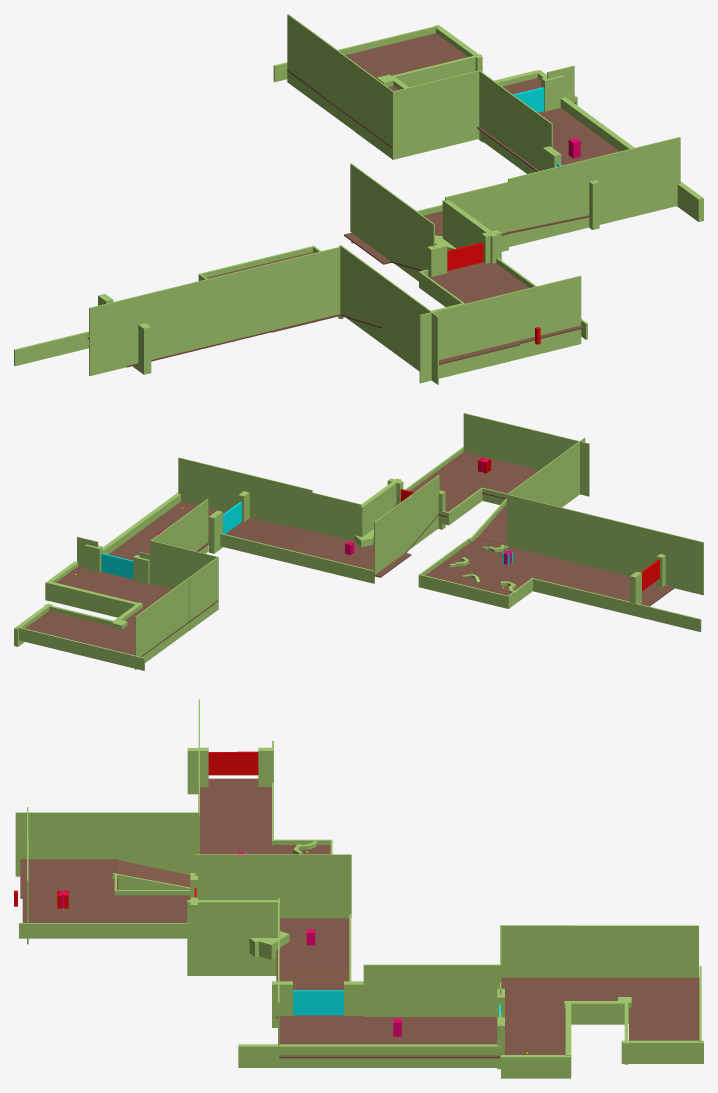
The model's file is Phase1.fbx.
The picture shows the model from 3 angles, top to bottom: view 1: azimuth 30°, elevation 25°; view 2: azimuth 150°, elevation 25°; view 3: azimuth 270°, elevation 25°; orthographic projection. The views are drawn at different scales.
Parts seen in each view (by area): view 1: Cube__31_, Cube__30_, Cube__5_, Cube__17_, Cube__16__3, Cube__27_, Cube__21_, Cube__26_, Cube__9_, Cube__24__1, Cube__8_, Cube__6__1 (+19 smaller); view 2: Cube__31_, Cube__35__1, Cube__21_, Cube__26_, Cube__16__3, Cube__17_, Cube__37__1, Cube__30_, Cube__24__1, Cube__40_, Cube__12_, Cube__5_ (+28 smaller); view 3: Cube__30_, Cube__21_, Cube__24_, Cube__20__1, Cube__37__1, Cube__24__1, Cube__16__1, Cube__8_, Cube__15__3, Cube__18__2, Cube__6__1, Cube__13__2 (+23 smaller).
Boxes of the visible parts, x1,y1,x2,y2 form: Cube__31_: (89,247,340,375); Cube__30_: (339,245,438,384); Cube__5_: (392,70,479,159); Cube__17_: (508,156,599,246); Cube__16__3: (599,137,680,224); Cube__27_: (419,293,510,383); Cube__21_: (350,163,434,281); Cube__26_: (490,275,581,360); Cube__9_: (345,33,467,77); Cube__24__1: (427,262,583,344); Cube__8_: (287,14,325,108); Cube__6__1: (355,64,393,158); Cube__31_: (506,494,703,595); Cube__35__1: (425,538,561,600); Cube__21_: (374,475,439,574); Cube__26_: (463,413,534,468); Cube__16__3: (178,457,248,512); Cube__17_: (242,473,312,530); Cube__37__1: (537,560,674,606); Cube__30_: (508,437,585,507); Cube__24__1: (410,452,517,517); Cube__40_: (530,577,701,631); Cube__12_: (220,533,374,583); Cube__5_: (150,540,218,609); Cube__30_: (15,812,199,876); Cube__21_: (195,854,351,918); Cube__24_: (187,900,279,975); Cube__20__1: (238,1044,501,1067); Cube__37__1: (198,778,271,844); Cube__24__1: (22,895,190,922); Cube__16__1: (279,1015,407,1058); Cube__8_: (628,925,698,977); Cube__15__3: (363,964,433,1016); Cube__18__2: (276,918,349,972); Cube__6__1: (501,925,569,977); Cube__13__2: (431,964,500,1016).
Size of the model in its own units: 52820 by 7436 by 49187.
